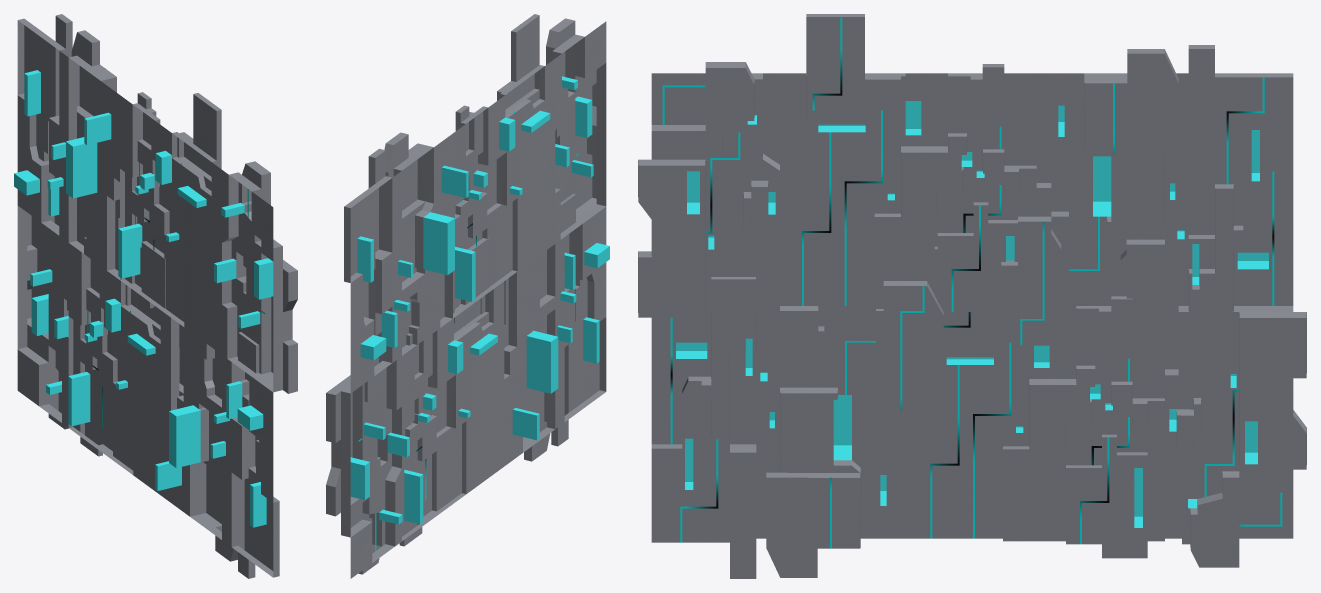
The model's file is AllRoomB.fbx.
3 renders of one model, left to right at view 1: azimuth 30°, elevation 25°; view 2: azimuth 150°, elevation 25°; view 3: azimuth 270°, elevation 25°, orthographic. The views are drawn at different scales.
Parts seen in each view (by area): view 1: SM_VA_AllRoomB.mo; view 2: SM_VA_AllRoomB.mo; view 3: SM_VA_AllRoomB.mo.
Boxes of the visible parts, bbox=[...] form: SM_VA_AllRoomB.mo: bbox=[14, 14, 297, 578]; SM_VA_AllRoomB.mo: bbox=[326, 14, 609, 578]; SM_VA_AllRoomB.mo: bbox=[638, 14, 1306, 578].
Bounding box in the file's own units: 49.5 × 481 × 521.
